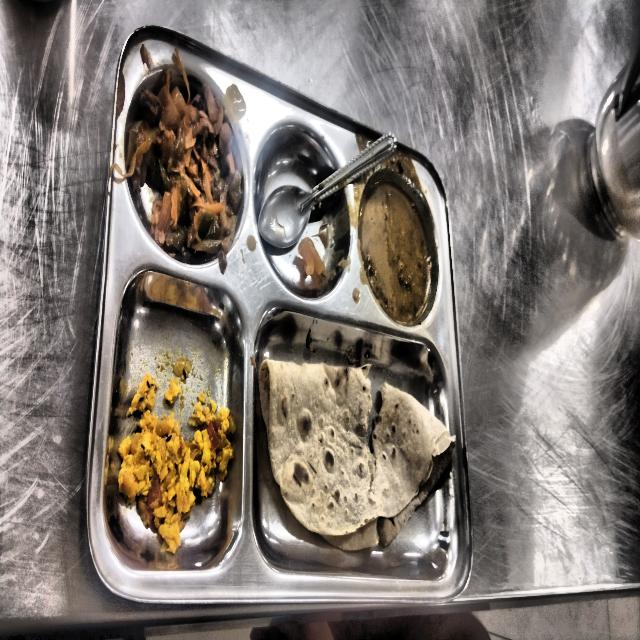Paneer-bhurji: (107, 304, 236, 553)
Roti: (257, 313, 437, 549)
